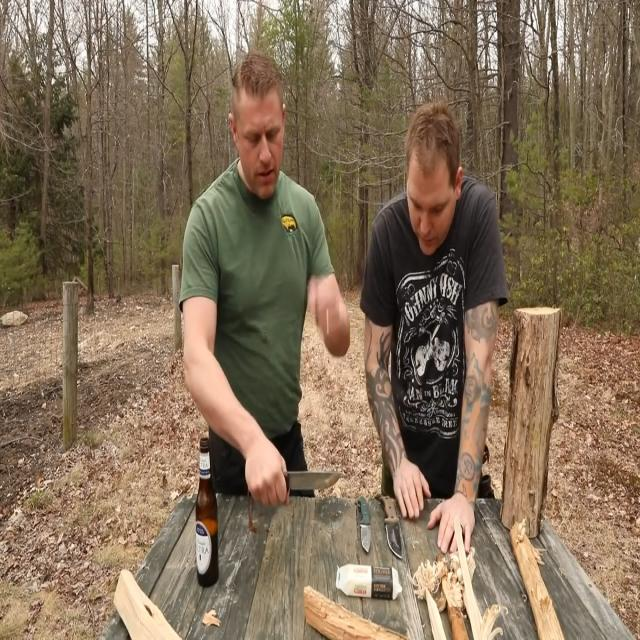knife: (381, 492, 407, 565), (285, 467, 343, 496), (361, 490, 372, 559)
